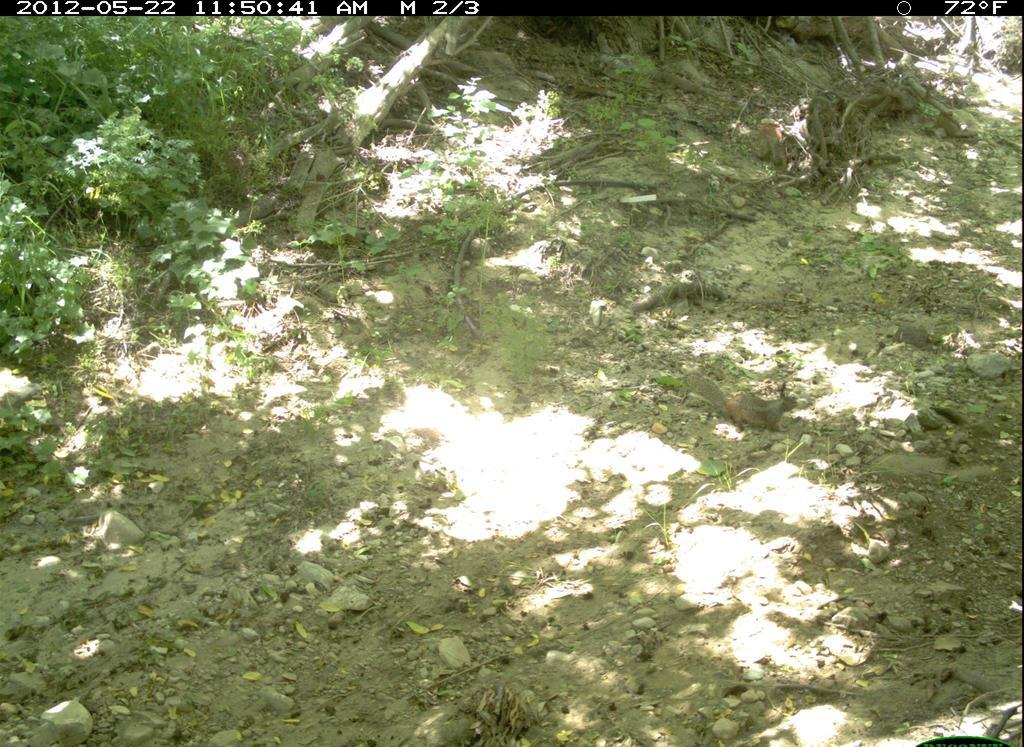squirrel: (679, 363, 802, 442)
